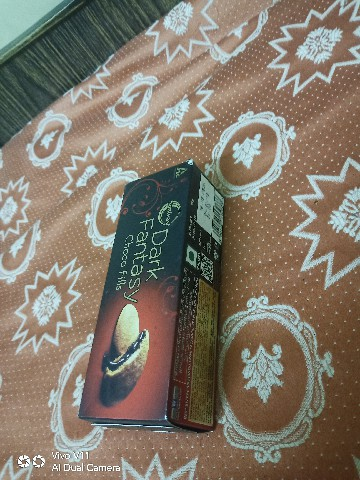darkfantasy big: (69, 161, 235, 454)
